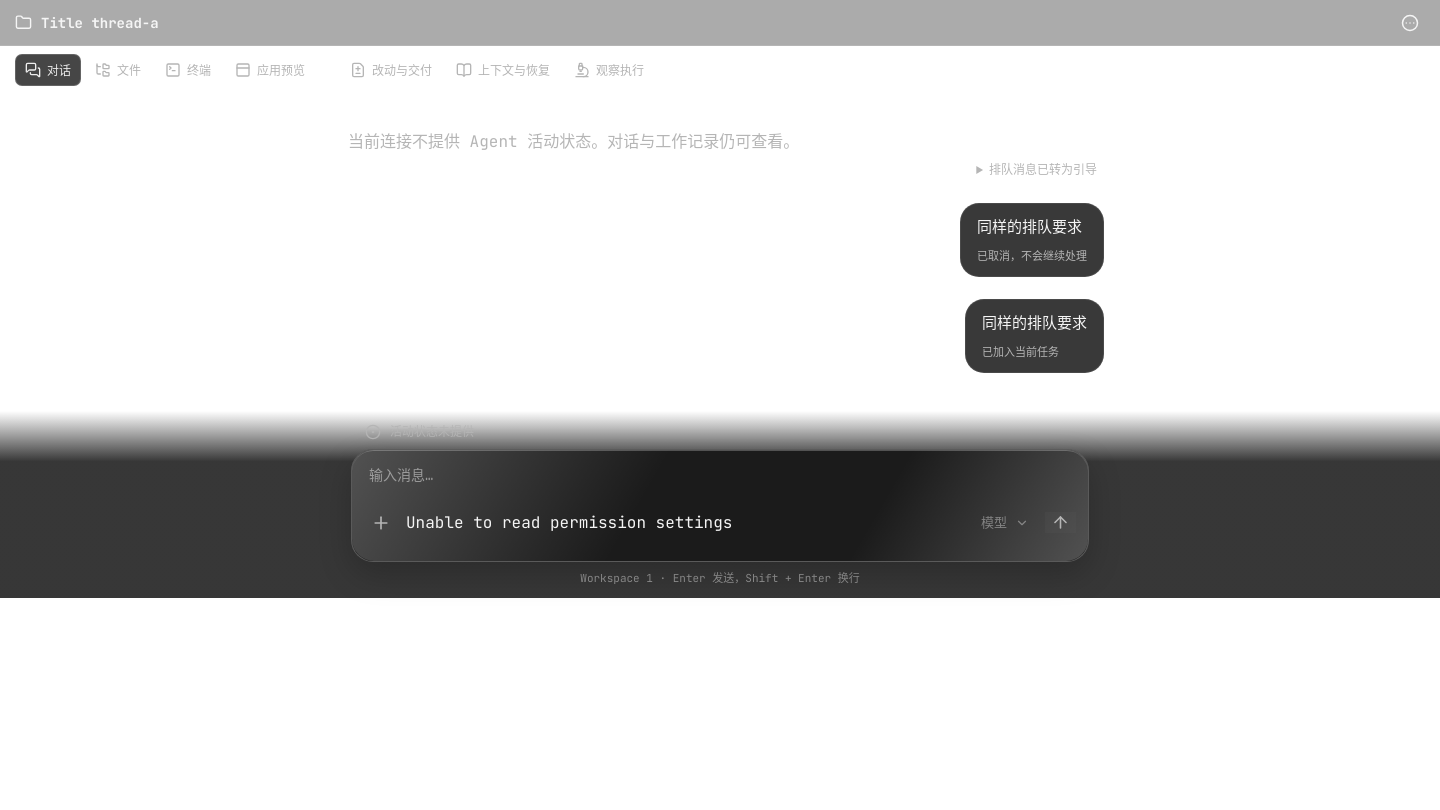
Test: V2Conversation › compacts a promoted source while keeping its original text expandable and the correction fully visible
expect the text "已取消，不会继续处理" is shown: met, box [977, 246, 1087, 265]
expect the text "已加入当前任务" is shown: met, box [982, 345, 1059, 359]
Click the heading "排队消息已转为引导".
click(1043, 170)  # box [989, 162, 1097, 178]
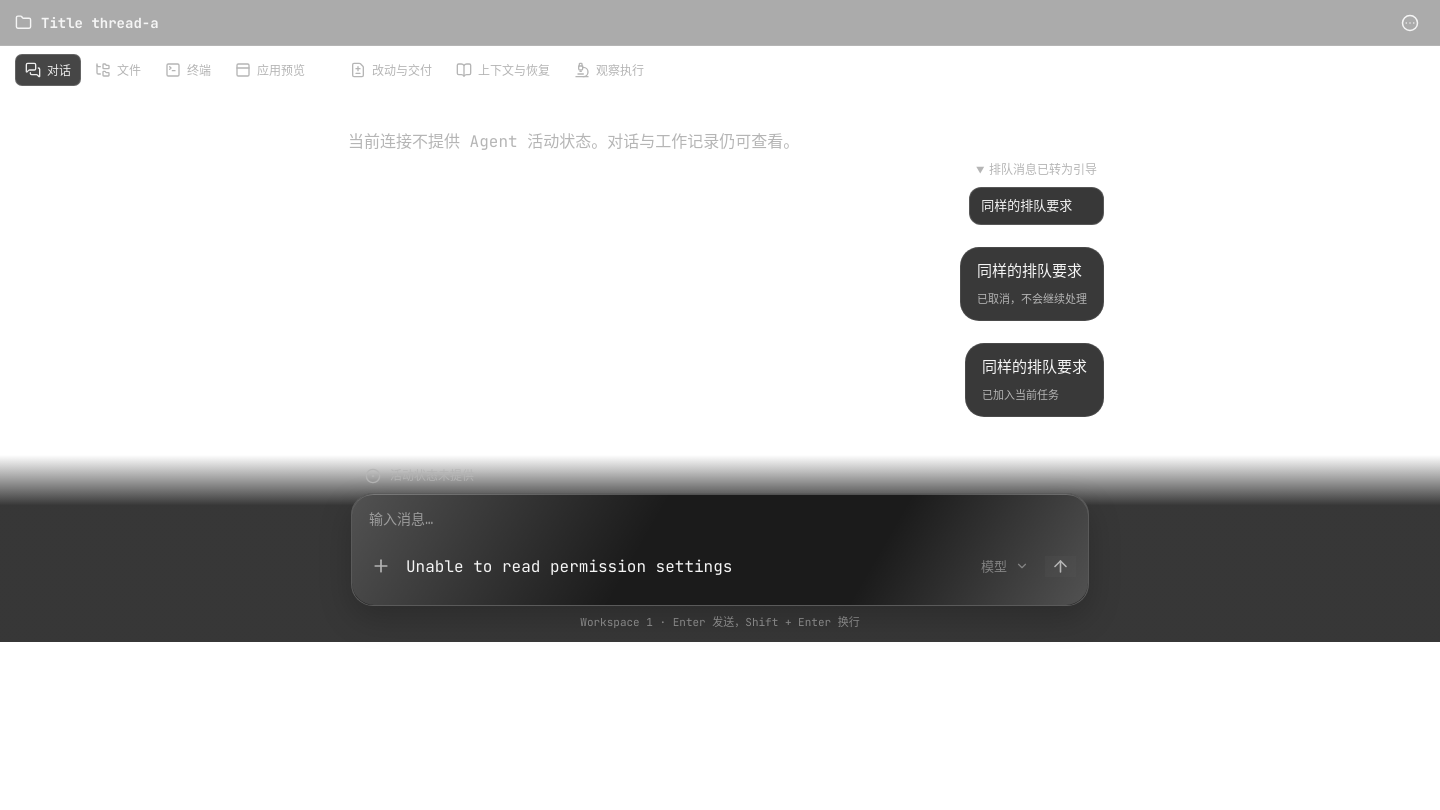
expect the text "同样的排队要求" is shown: met, box [969, 187, 1104, 224]
expect the text "同样的排队要求" is shown 3 times: met, box [969, 187, 1104, 224]; [960, 246, 1104, 321]; [965, 343, 1104, 417]
